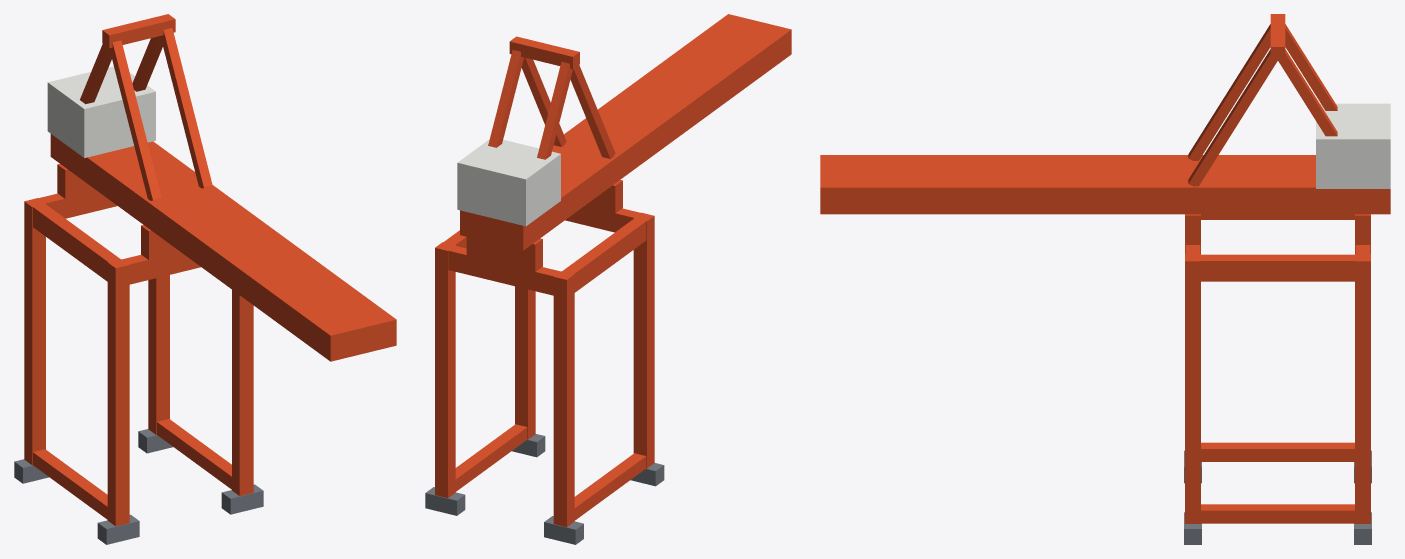
Rendered from port_crane_far.fbx.
The picture shows the model from 3 angles, left to right: view 1: azimuth 30°, elevation 25°; view 2: azimuth 150°, elevation 25°; view 3: azimuth 270°, elevation 25°; orthographic projection. The views are drawn at different scales.
Parts seen in each view (by area): view 1: a403_0_port_crane_far; view 2: a403_0_port_crane_far; view 3: a403_0_port_crane_far.
Boxes of the visible parts, left/top/right/bottom form: a403_0_port_crane_far: left=14, top=14, right=396, bottom=544; a403_0_port_crane_far: left=425, top=14, right=791, bottom=544; a403_0_port_crane_far: left=820, top=14, right=1390, bottom=544.
Size of the model in its own units: 11.4 by 32.4 by 35.2.
